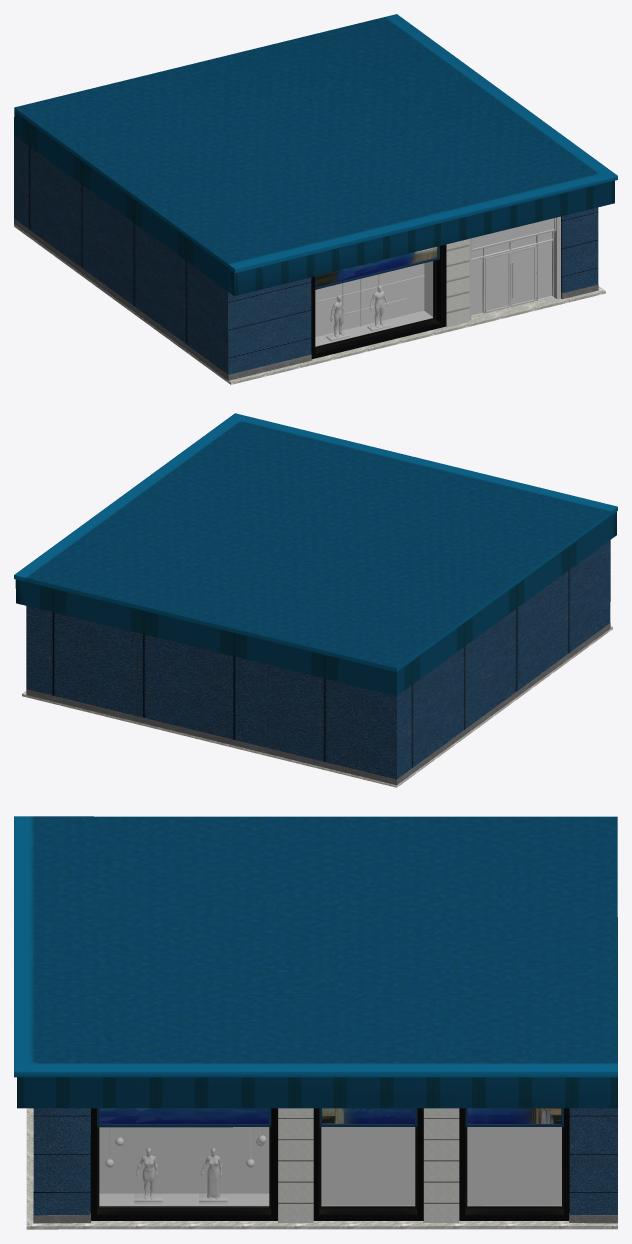
File: ClothStore.fbx
3 renders of one model, top to bottom at view 1: azimuth 30°, elevation 25°; view 2: azimuth 150°, elevation 25°; view 3: azimuth 270°, elevation 25°, orthographic. The views are drawn at different scales.
Parts seen in each view (by area): view 1: ClothStore; view 2: ClothStore; view 3: ClothStore.
Part boxes in pixels (box(x1,y1,x2,y2)): ClothStore: box(14, 14, 617, 384); ClothStore: box(14, 413, 617, 787); ClothStore: box(14, 816, 617, 1229).
Size of the model in its own units: 2048 by 610 by 2048.
